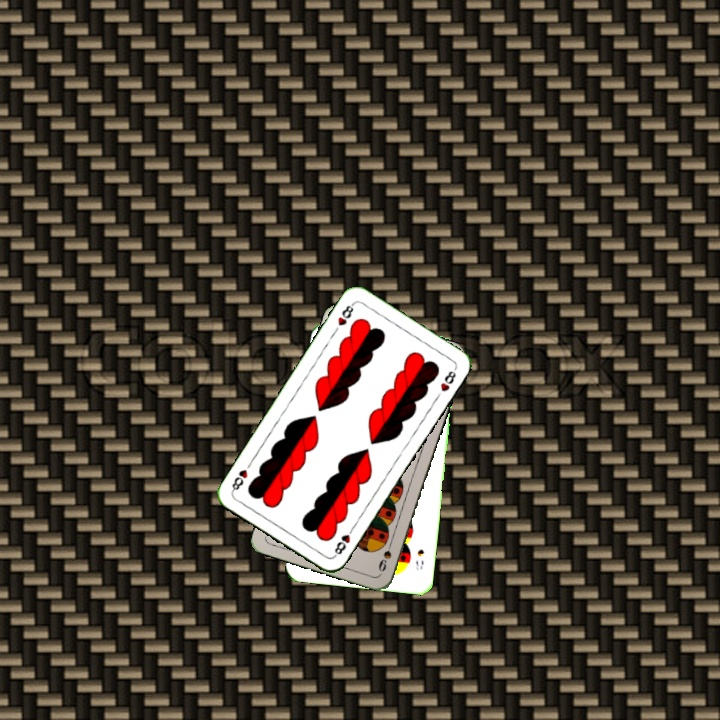H8: (330, 523, 357, 559), (333, 299, 357, 328)
S8: (412, 545, 427, 572)
S9: (374, 536, 395, 575)
